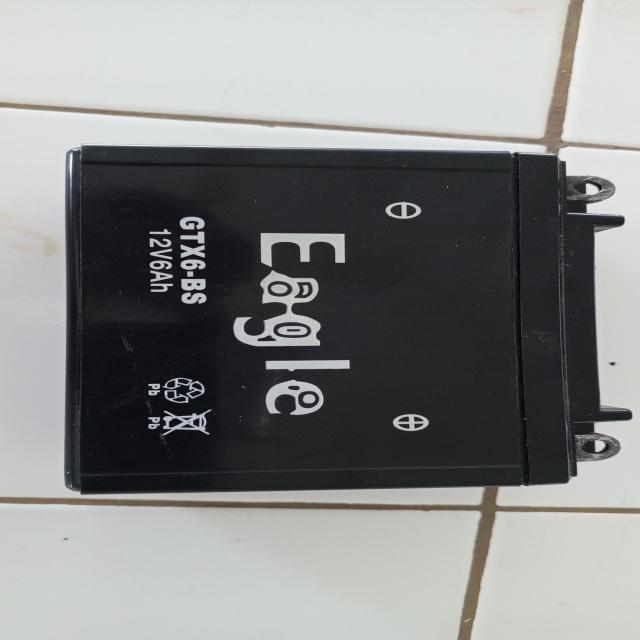Dry Cell: (28, 140, 604, 500)
